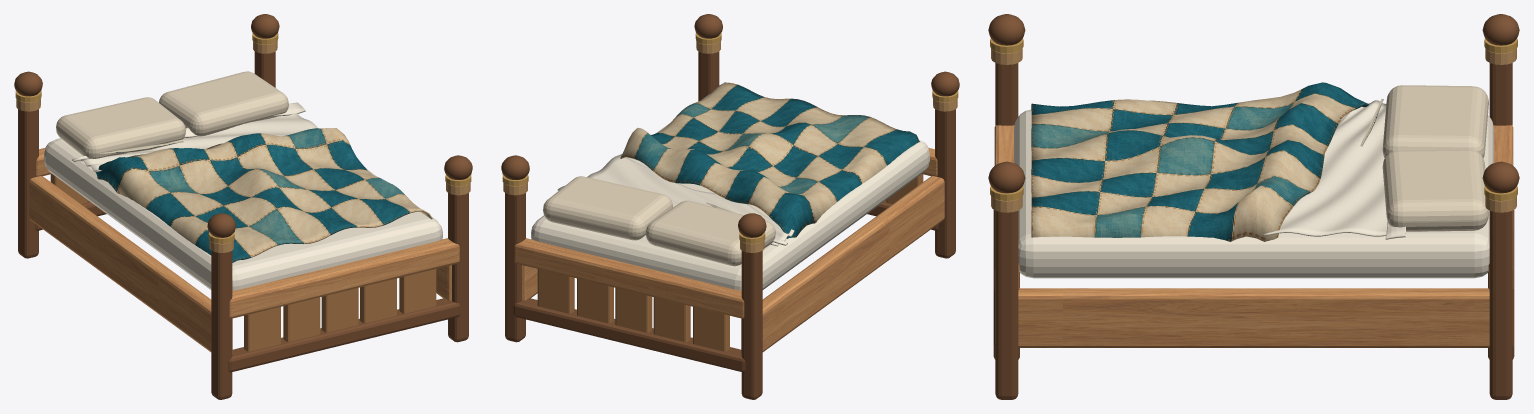
3 renders of one model, left to right at view 1: azimuth 30°, elevation 25°; view 2: azimuth 150°, elevation 25°; view 3: azimuth 270°, elevation 25°, orthographic. The views are drawn at different scales.
Parts seen in each view (by area): view 1: loft_quilt, loft_oak, loft_wood_dark, loft_linen, loft_white, loft_wood, loft_wood_edge, loft_brass; view 2: loft_quilt, loft_oak, loft_wood_dark, loft_linen, loft_white, loft_wood, loft_wood_edge, loft_brass; view 3: loft_quilt, loft_linen, loft_oak, loft_wood_dark, loft_white, loft_wood_edge, loft_brass.
Part boxes in pixels (x1,y1,x2,y2): loft_quilt: (95,128,432,262); loft_oak: (29,148,459,353); loft_wood_dark: (14,14,472,399); loft_linen: (44,102,442,290); loft_white: (56,71,288,158); loft_wood: (50,174,436,351); loft_wood_edge: (16,41,470,252); loft_brass: (15,33,471,243); loft_quilt: (620,82,919,238); loft_oak: (514,148,944,353); loft_wood_dark: (501,14,959,399); loft_linen: (531,94,929,290); loft_white: (543,176,775,266); loft_wood: (537,174,923,351); loft_wood_edge: (503,41,957,252); loft_brass: (502,33,958,243); loft_quilt: (1031,82,1368,241); loft_linen: (1014,100,1493,278); loft_oak: (994,125,1513,347); loft_wood_dark: (988,14,1519,399); loft_white: (1382,85,1488,231); loft_wood_edge: (991,49,1516,212); loft_brass: (990,38,1517,200).
Bounding box in the file's own units: 2.19 × 1.46 × 3.01.
9 materials, 2 textured.
